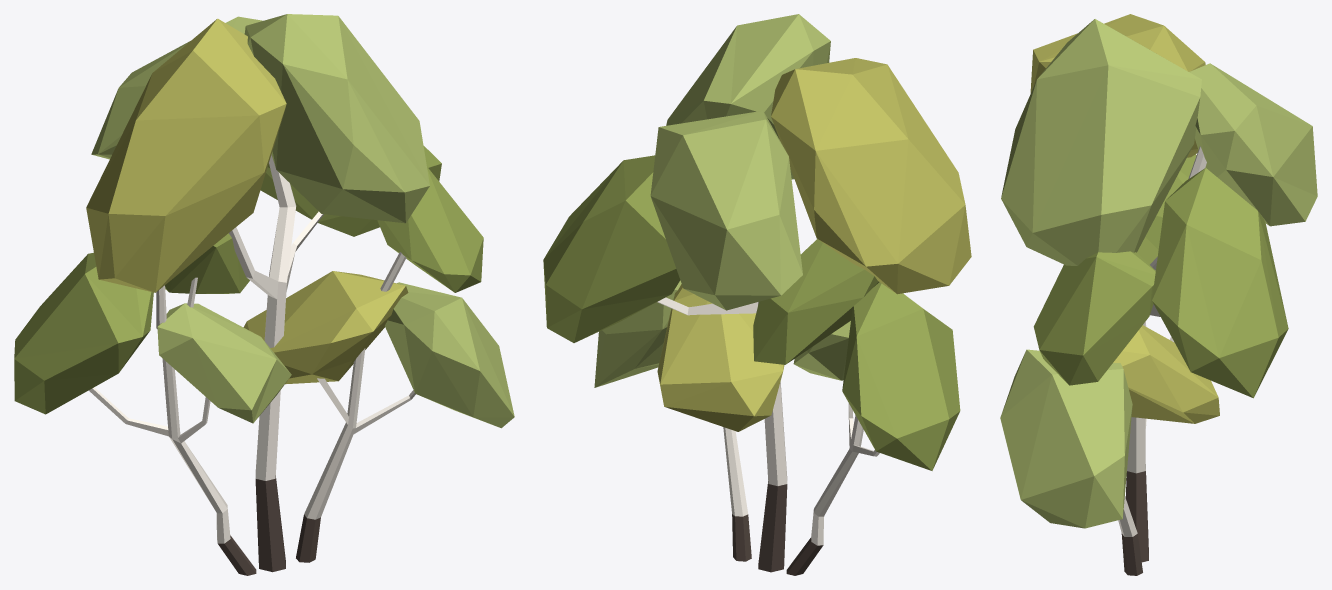
Rendered from Tree_Type5_04.glb.
The picture shows the model from 3 angles, left to right: view 1: azimuth 30°, elevation 25°; view 2: azimuth 150°, elevation 25°; view 3: azimuth 270°, elevation 25°; orthographic projection. The views are drawn at different scales.
Visible parts, largest first — view 1: Tree Type5 04 Model; view 2: Tree Type5 04 Model; view 3: Tree Type5 04 Model.
Boxes of the visible parts, x1=… form: Tree Type5 04 Model: x1=14, y1=14, x2=514, y2=575; Tree Type5 04 Model: x1=543, y1=14, x2=971, y2=575; Tree Type5 04 Model: x1=1000, y1=14, x2=1317, y2=575.
Size of the model in its own units: 3.08 by 3.92 by 2.1.
1 material, 1 textured.
